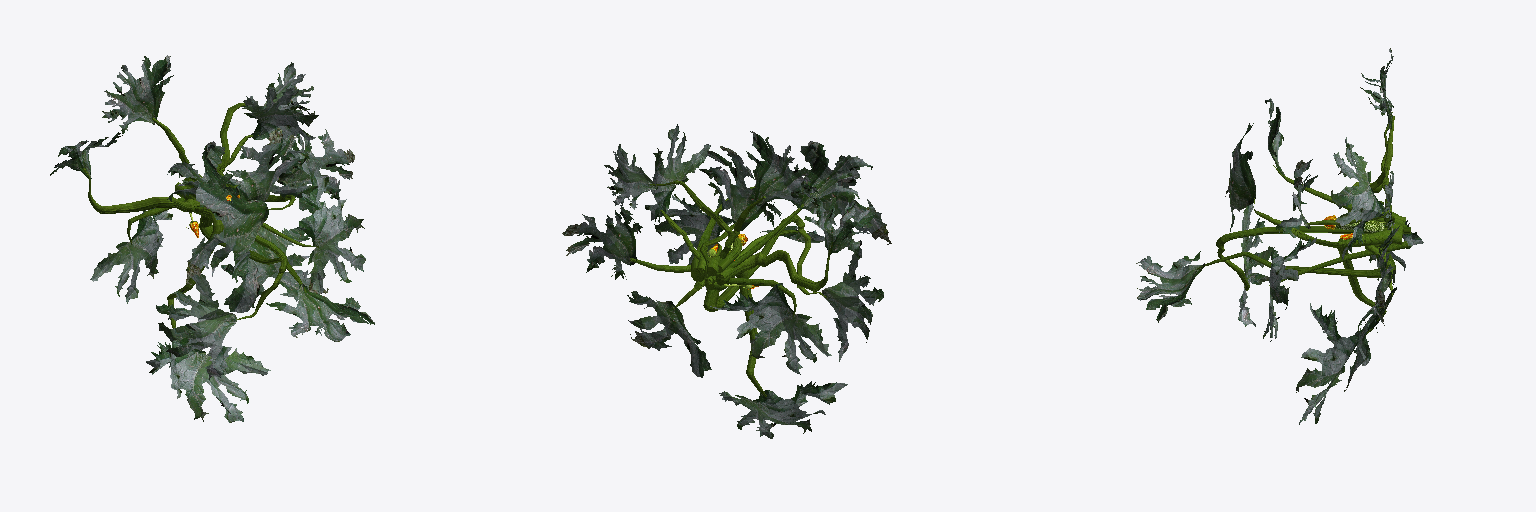
3 renders of one model, left to right at view 1: azimuth 30°, elevation 25°; view 2: azimuth 150°, elevation 25°; view 3: azimuth 270°, elevation 25°, orthographic.
Visible parts, largest first — view 1: plant_Cylinder.104; view 2: plant_Cylinder.104; view 3: plant_Cylinder.104.
Part boxes in pixels (bbox=[...]): plant_Cylinder.104: bbox=[50, 55, 374, 422]; plant_Cylinder.104: bbox=[562, 124, 891, 438]; plant_Cylinder.104: bbox=[1136, 48, 1423, 424].
Size of the model in its own units: 0.8531 by 0.9264 by 0.7011.
Materials: 4 (4 with a texture image).